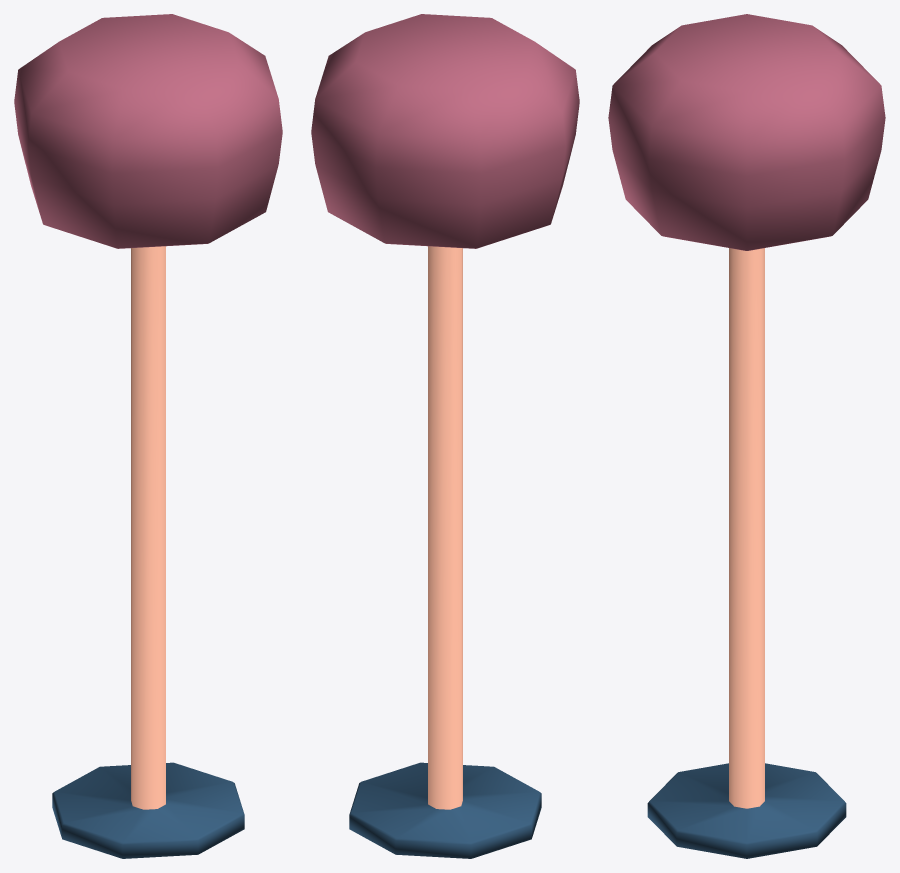
File: floorLight.fbx
3 views of the same model, side by side, from view 1: azimuth 30°, elevation 25°; view 2: azimuth 150°, elevation 25°; view 3: azimuth 270°, elevation 25° (orthographic).
Visible parts, largest first — view 1: Lamp; view 2: Lamp; view 3: Lamp.
Part boxes in pixels (x1,y1,x2,y2): Lamp: (14,14,282,858); Lamp: (311,14,579,858); Lamp: (608,14,885,858).
Bounding box in the file's own units: 47.46 × 144 × 47.46.
1 material, 1 textured.
